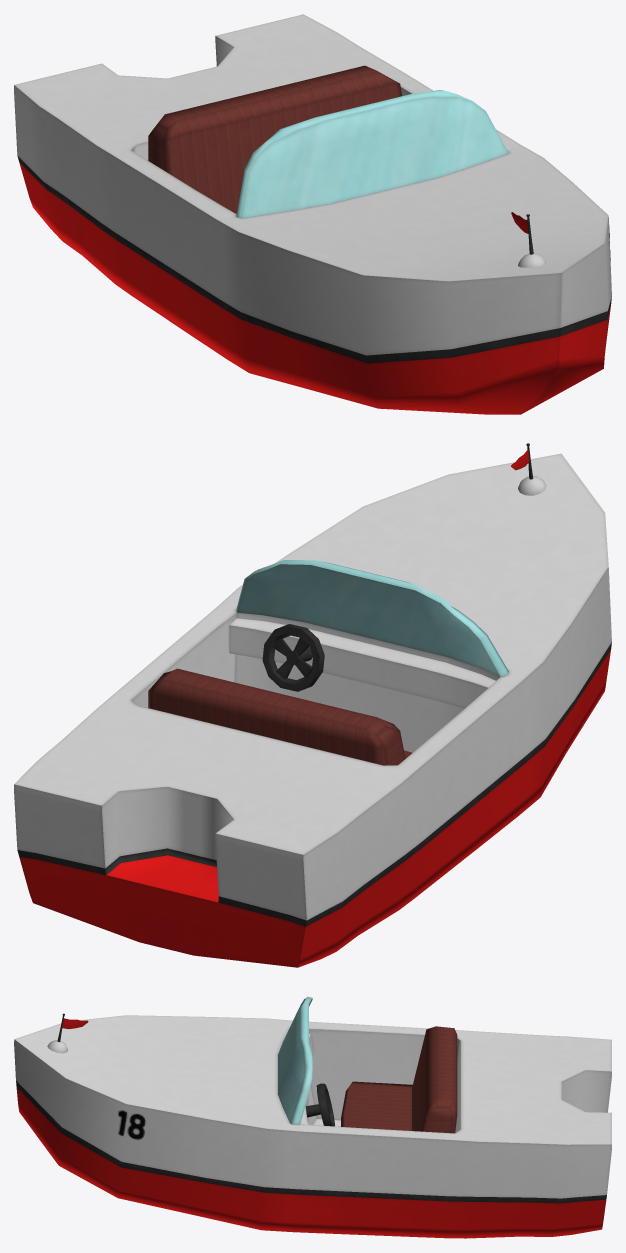
The model's file is chasis botemovil.obj.
The picture shows the model from 3 angles, top to bottom: view 1: azimuth 30°, elevation 25°; view 2: azimuth 150°, elevation 25°; view 3: azimuth 270°, elevation 25°; orthographic projection. The views are drawn at different scales.
Visible parts, largest first — view 1: Object002; view 2: Object002; view 3: Object002.
Part boxes in pixels (<box>): Object002: <box>14,14,611,414</box>; Object002: <box>14,443,611,967</box>; Object002: <box>14,996,611,1238</box>.
Size of the model in its own units: 18.53 by 14.84 by 42.41.
